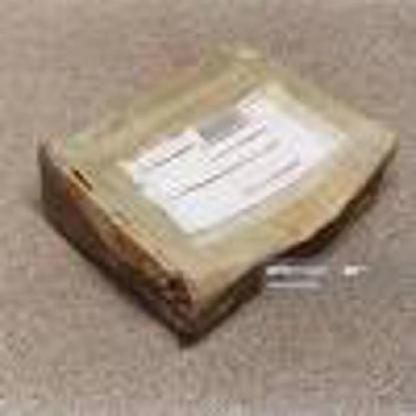box: (40, 34, 396, 334)
